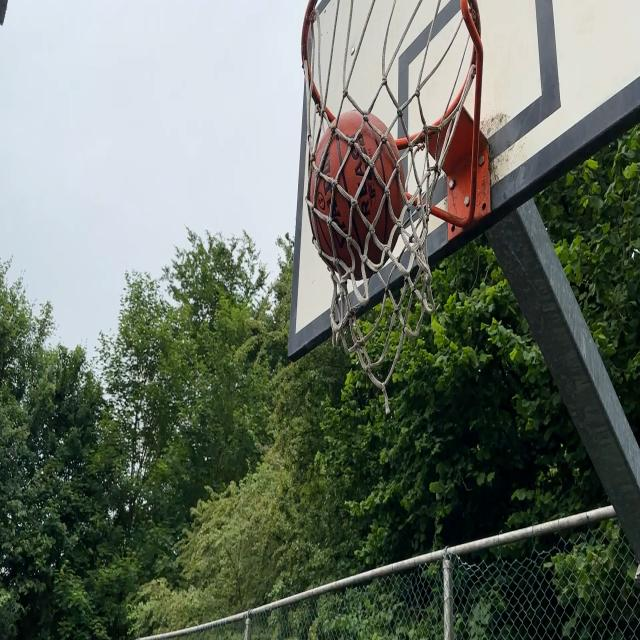Goal: (308, 112, 405, 283)
